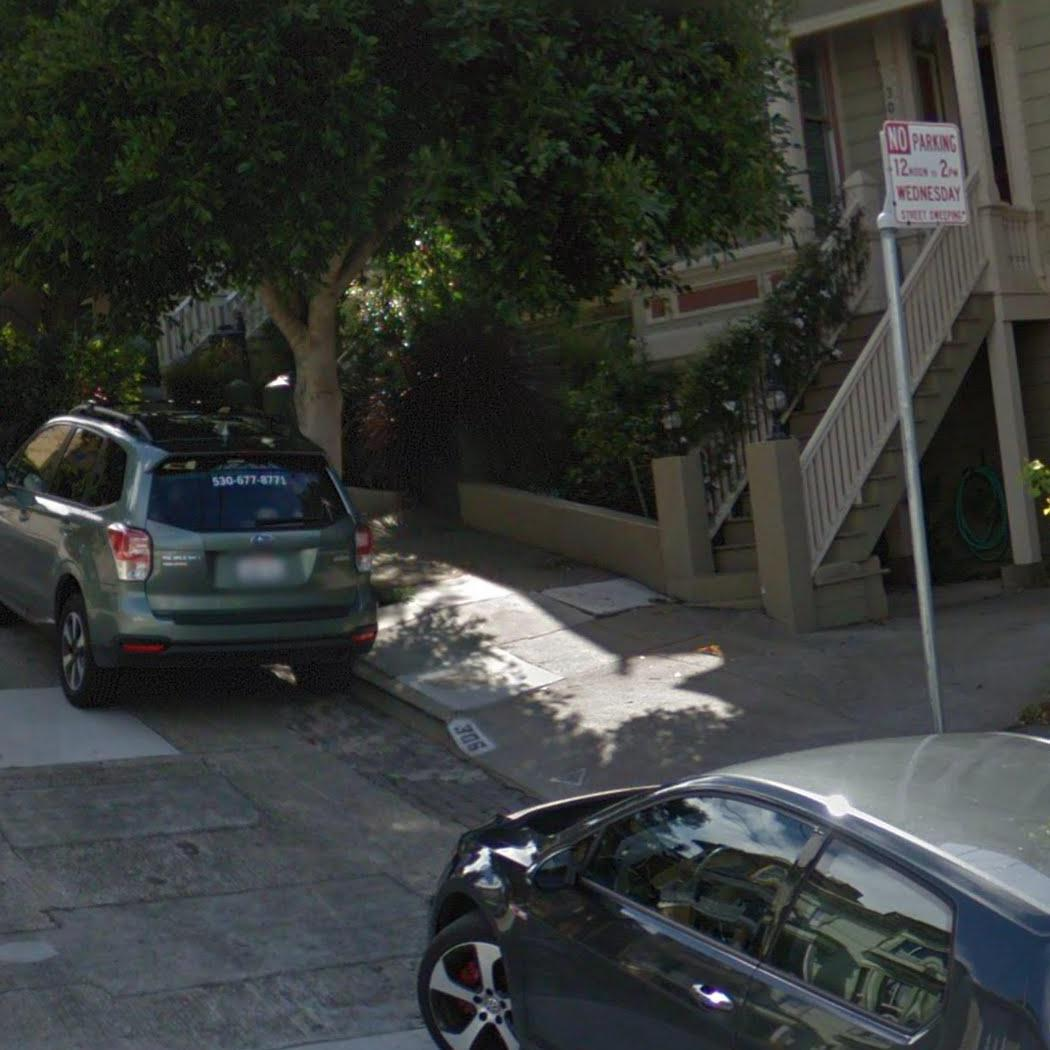No Parking: (872, 118, 978, 235)
